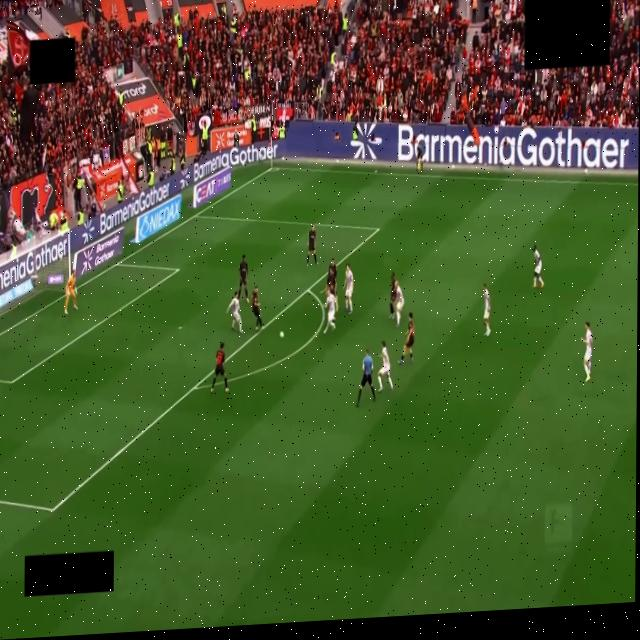ball: (279, 331, 283, 338)
player: (211, 343, 228, 393), (399, 312, 414, 364), (378, 341, 393, 392), (581, 322, 592, 381), (227, 292, 242, 333), (327, 259, 338, 310), (65, 272, 77, 315), (324, 291, 336, 333), (238, 255, 248, 303), (533, 245, 544, 287), (344, 264, 353, 314), (483, 283, 491, 337), (252, 287, 262, 330), (395, 281, 404, 326), (307, 225, 317, 265), (389, 273, 397, 319)
referee: (357, 350, 375, 407)
